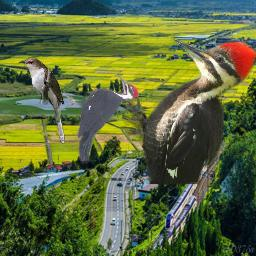Cuckoo: (18, 57, 65, 144)
Woodpecker: (122, 38, 256, 184), (64, 76, 140, 164)
